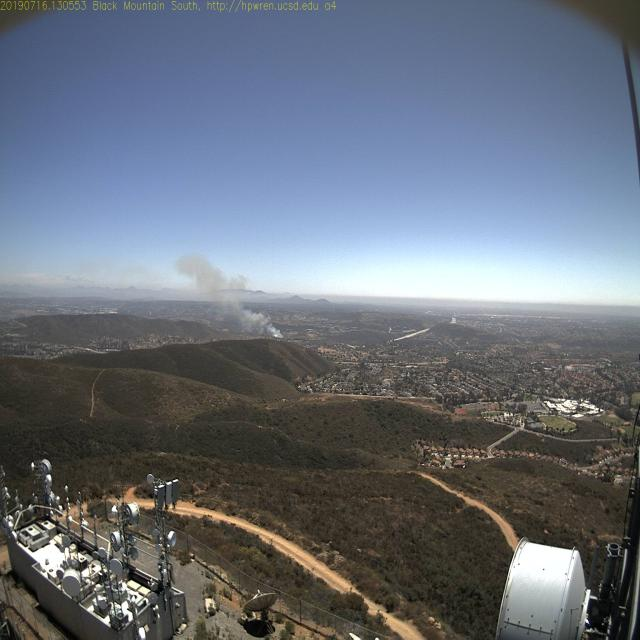smoke: (258, 308, 296, 354)
